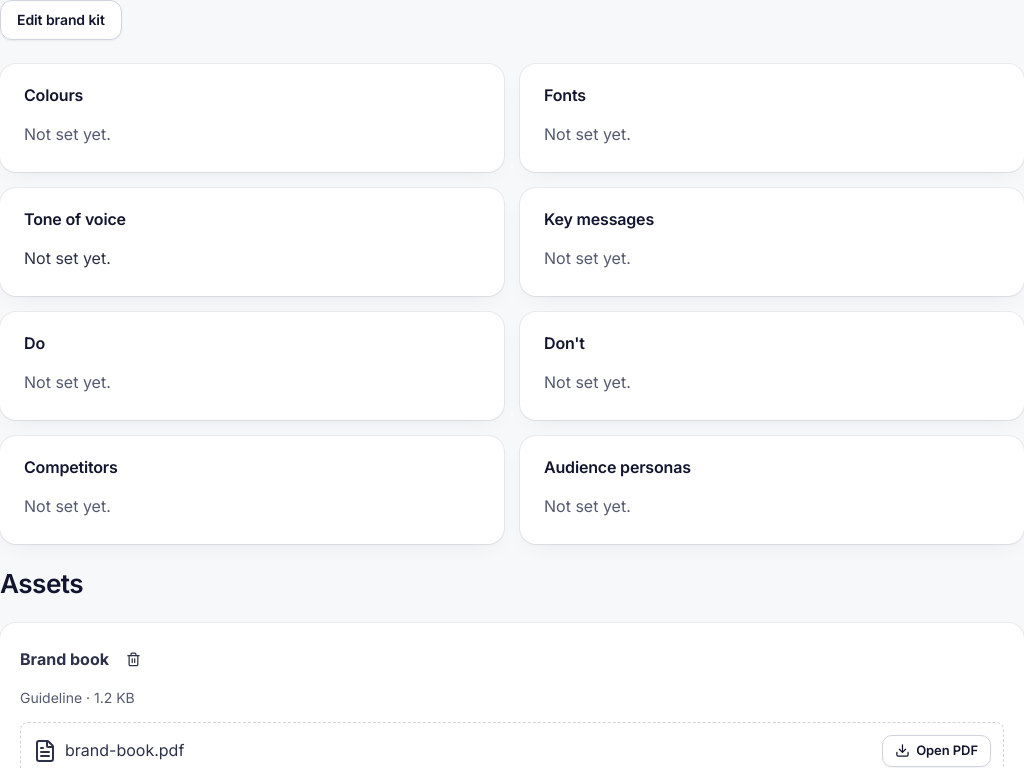
Test: Removing brand assets › shows the error when the asset was already removed by someone else
Click the button named "Remove Brand book" at coordinates (133, 659), box [117,643,149,675]
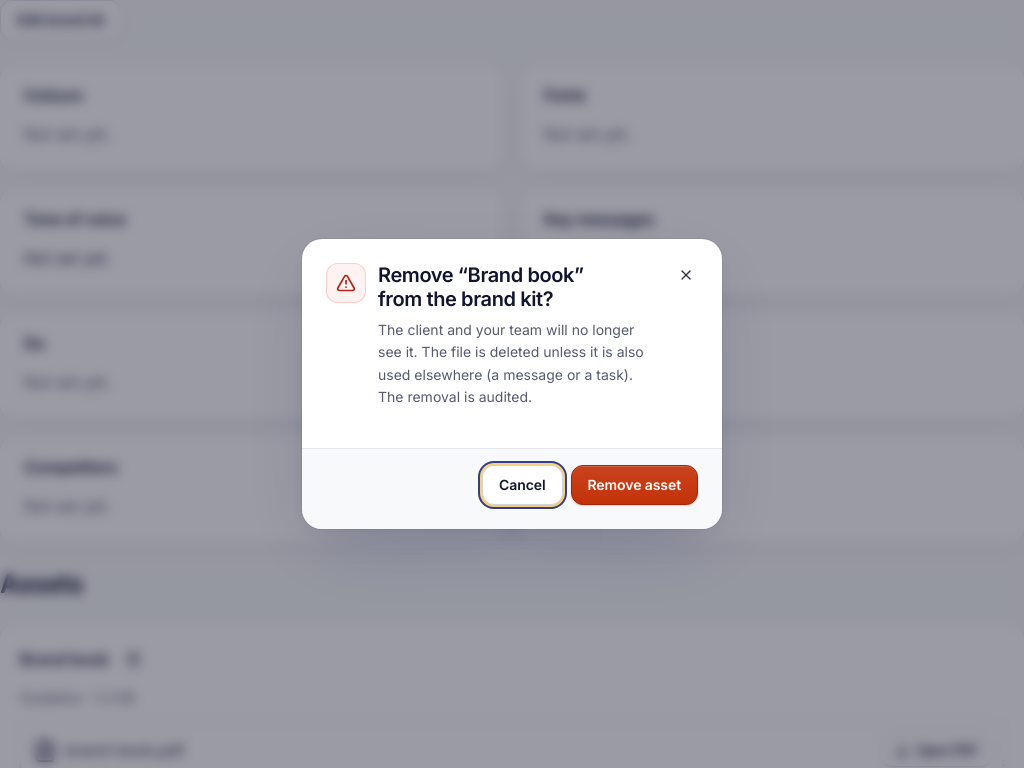
Click the button "Remove asset" at coordinates (634, 485), box [570,465,698,505]
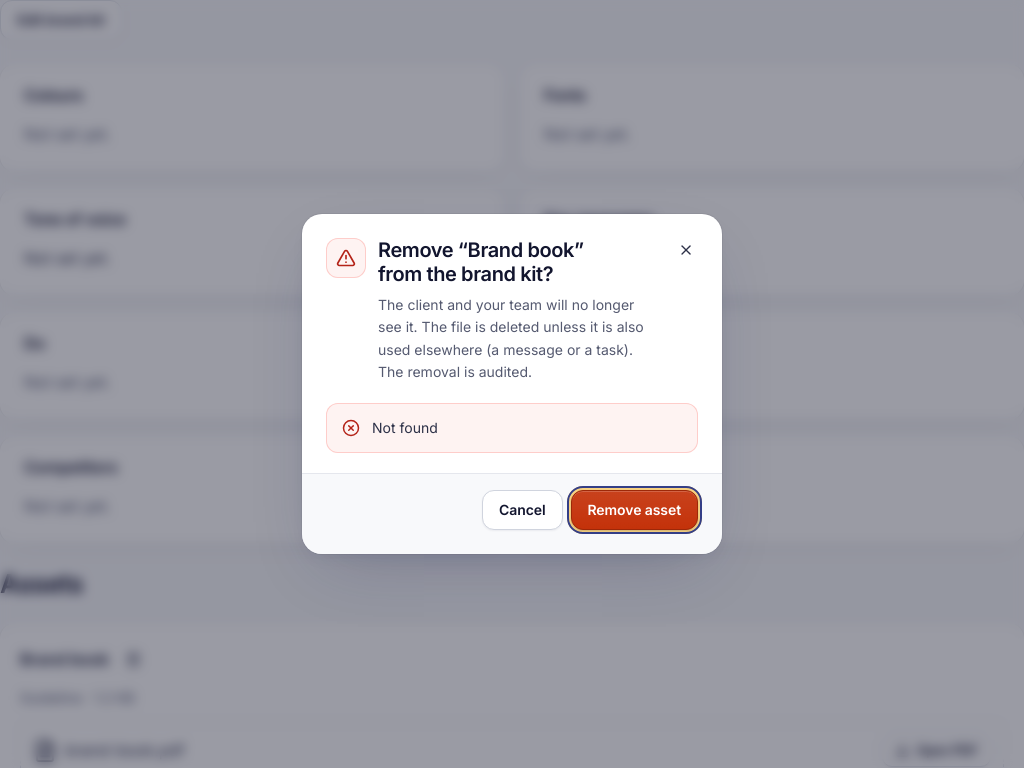
Now the message "Not found" is shown, box [326,403,698,453]
